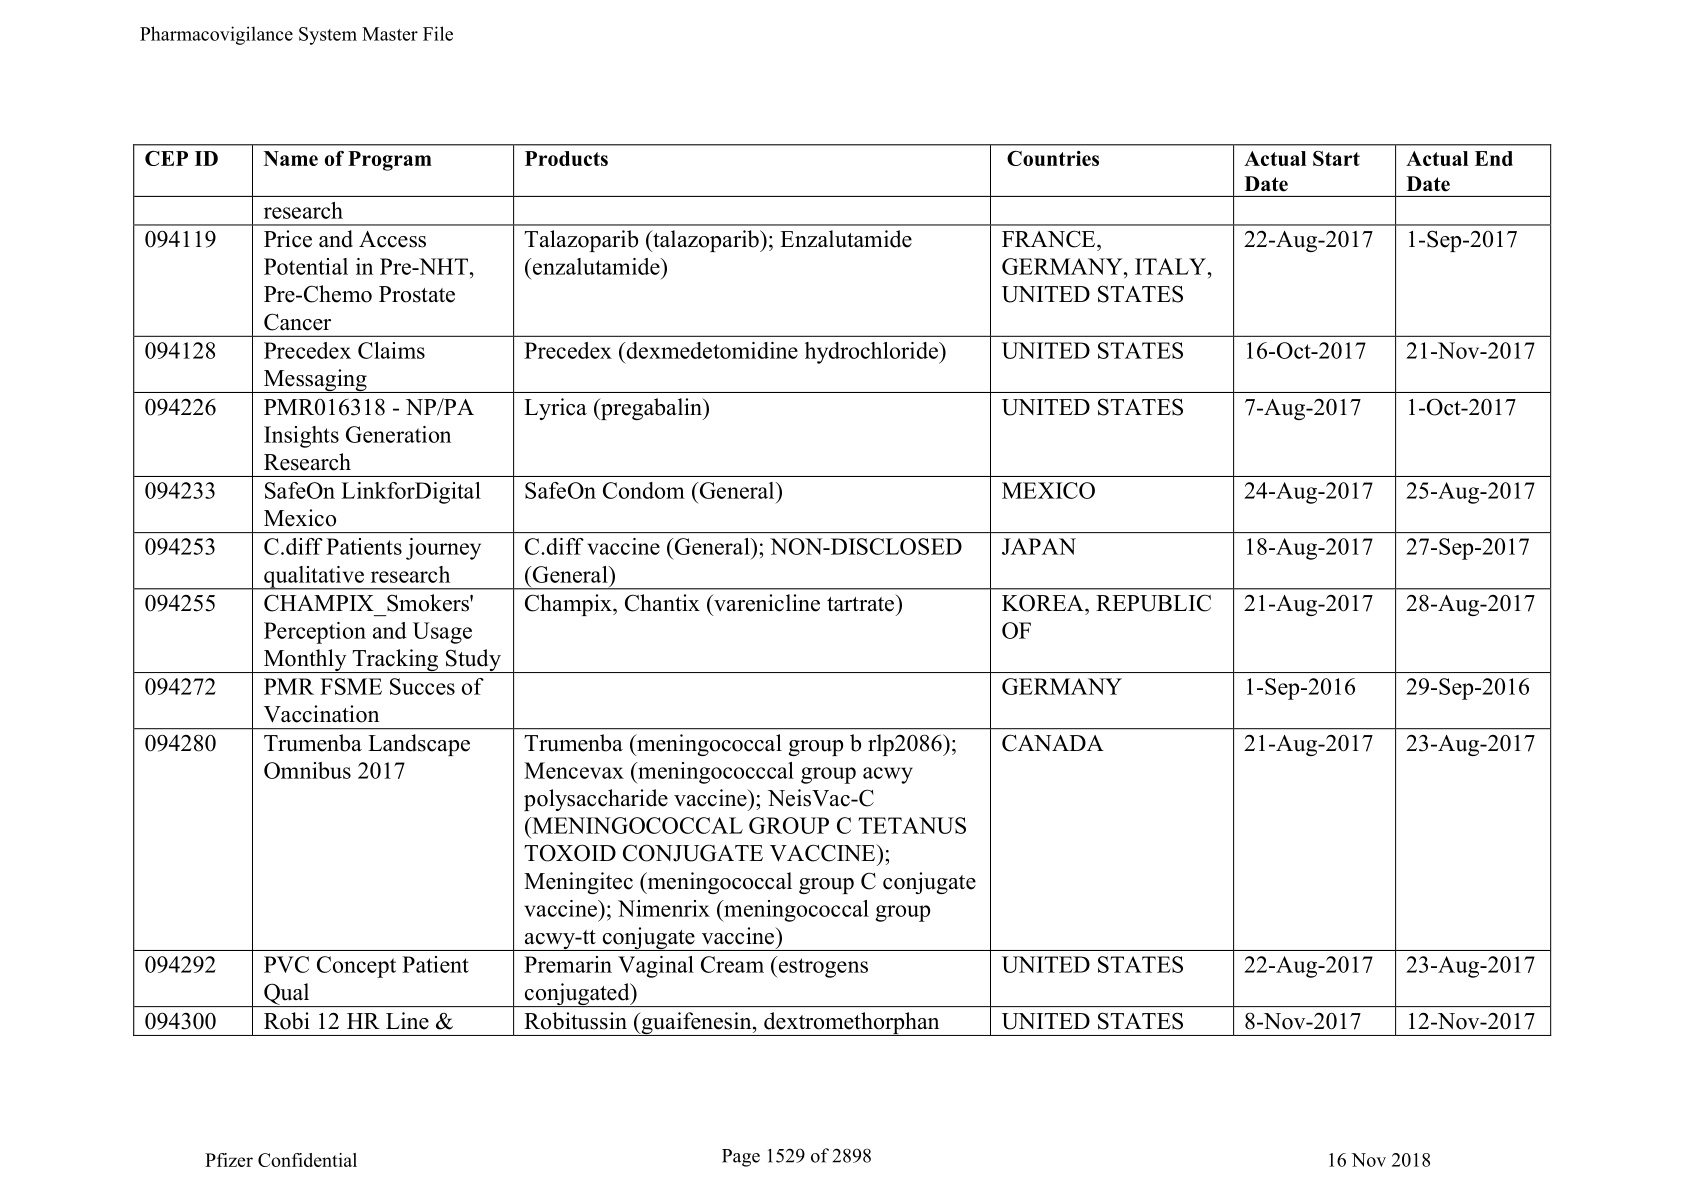full_lined: (128, 138, 1563, 1043)
